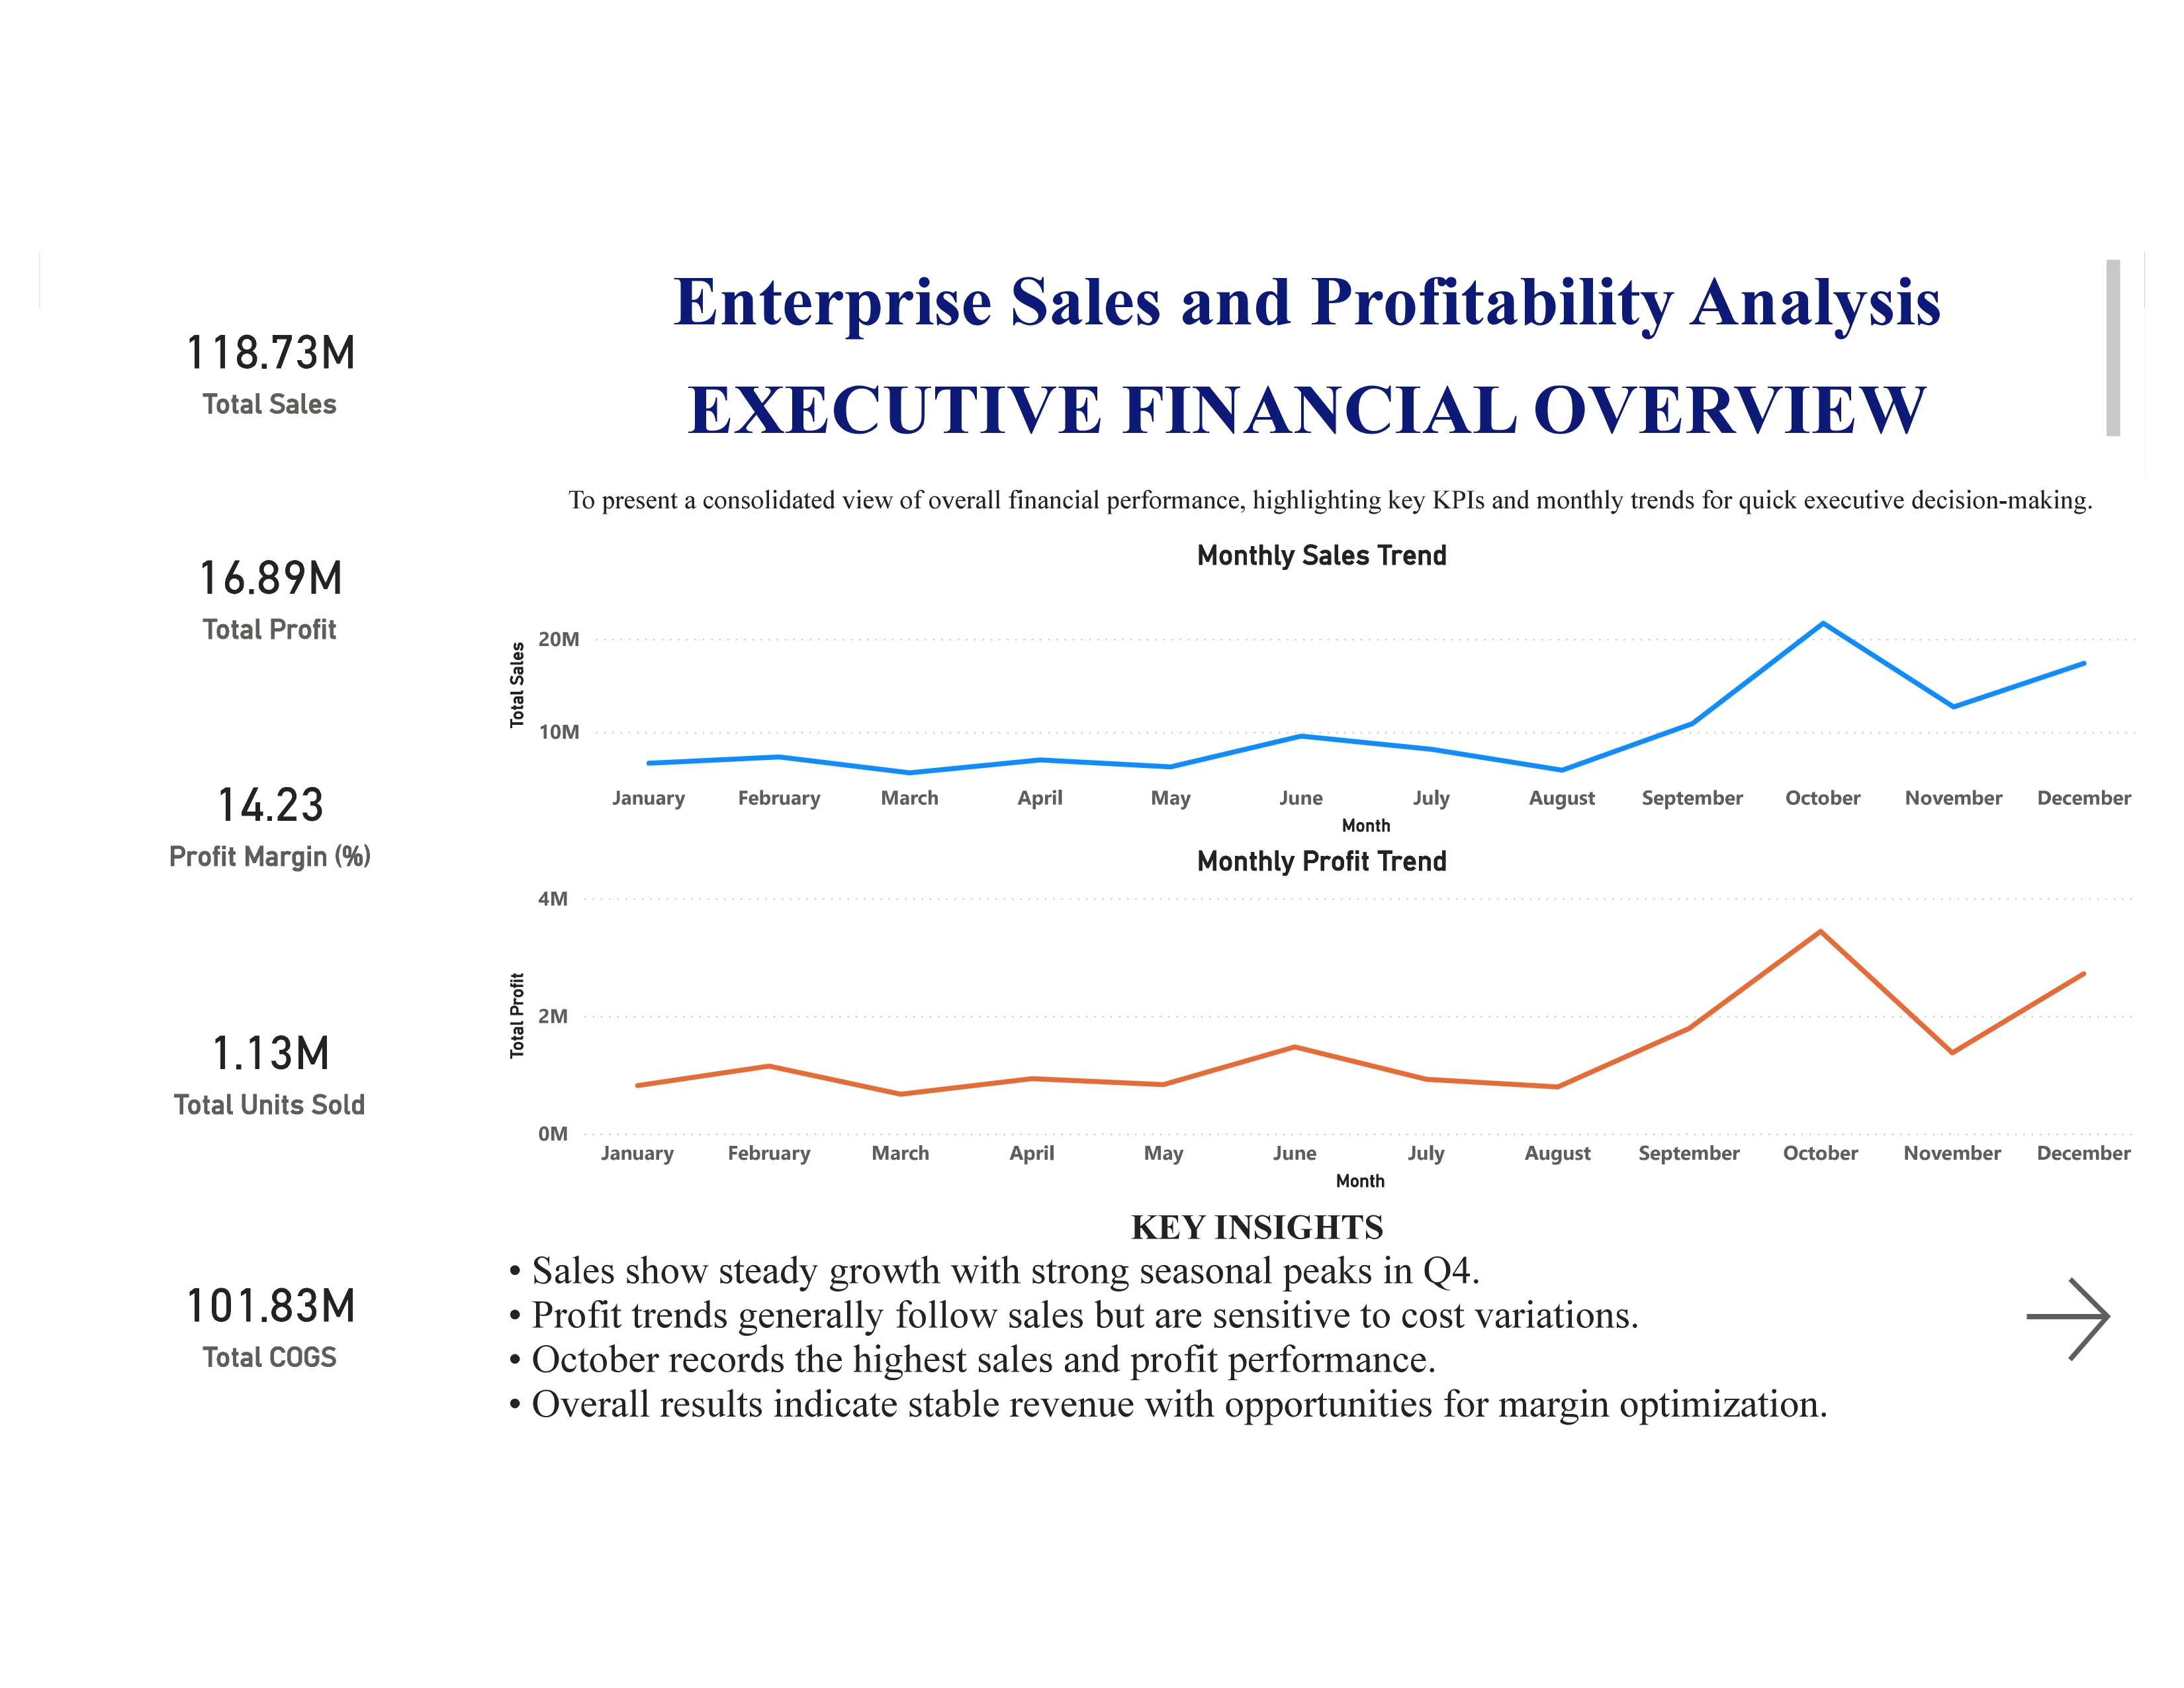

What the dashboard file says about the page in this screenshot:
{"tool":"powerbi","page":{"name":"Executive Financial Overview","canvas":[1280,720],"ordinal":0},"visuals":[{"type":"card","fields":{"Values":["Sheet1.Total Sales"]},"box":[0,0,279.9,137.2],"z":0},{"type":"card","fields":{"Values":["Sheet1.Total Profit"]},"box":[0,137.2,279.9,137.2],"z":1000},{"type":"card","fields":{"Values":["Sheet1.Total Units Sold"]},"box":[0,413,279.9,163.3],"z":2000},{"type":"card","fields":{"Values":["Sheet1.Total COGS"]},"box":[0,576.3,279.9,144.1],"z":3000},{"type":"lineChart","title":"Monthly Sales Trend","fields":{"Y":["Sheet1.Total Sales"],"Category":["Sheet1.Date.Variation.Date Hierarchy.Month"]},"box":[280,174.3,1000,185.7],"z":4000},{"type":"lineChart","title":"Monthly Profit Trend","fields":{"Y":["Sheet1.Total Profit"],"Category":["Sheet1.Date.Variation.Date Hierarchy.Month"]},"box":[280,360,1000,215.7],"z":5000},{"type":"textbox","box":[280,0,990,121.4],"z":6000},{"type":"card","fields":{"Values":["Sheet1.Profit Margin (%)"]},"box":[0,274.4,279.9,138.6],"z":7000},{"type":"actionButton","box":[1200.7,617.5,79.6,63.1],"z":8000},{"type":"textbox","box":[279.9,576.3,920.8,144.1],"z":9000},{"type":"textbox","box":[290,137.1,990,37.1],"z":9001}]}

Visuals, with their boxes on the page's 1280x720 design canvas (x1, y1, x2, y2). These are canvas units, not pixel positions in the 2184x1688 screenshot, which may show the page scaled, cropped or inside an application window:
card - Sheet1.Total Sales: x1=0 y1=0 x2=280 y2=137
card - Sheet1.Total Profit: x1=0 y1=137 x2=280 y2=274
card - Sheet1.Total Units Sold: x1=0 y1=413 x2=280 y2=576
card - Sheet1.Total COGS: x1=0 y1=576 x2=280 y2=720
"Monthly Sales Trend" lineChart: x1=280 y1=174 x2=1280 y2=360
"Monthly Profit Trend" lineChart: x1=280 y1=360 x2=1280 y2=576
textbox: x1=280 y1=0 x2=1270 y2=121
card - Sheet1.Profit Margin (%): x1=0 y1=274 x2=280 y2=413
actionButton: x1=1201 y1=618 x2=1280 y2=681
textbox: x1=280 y1=576 x2=1201 y2=720
textbox: x1=290 y1=137 x2=1280 y2=174
